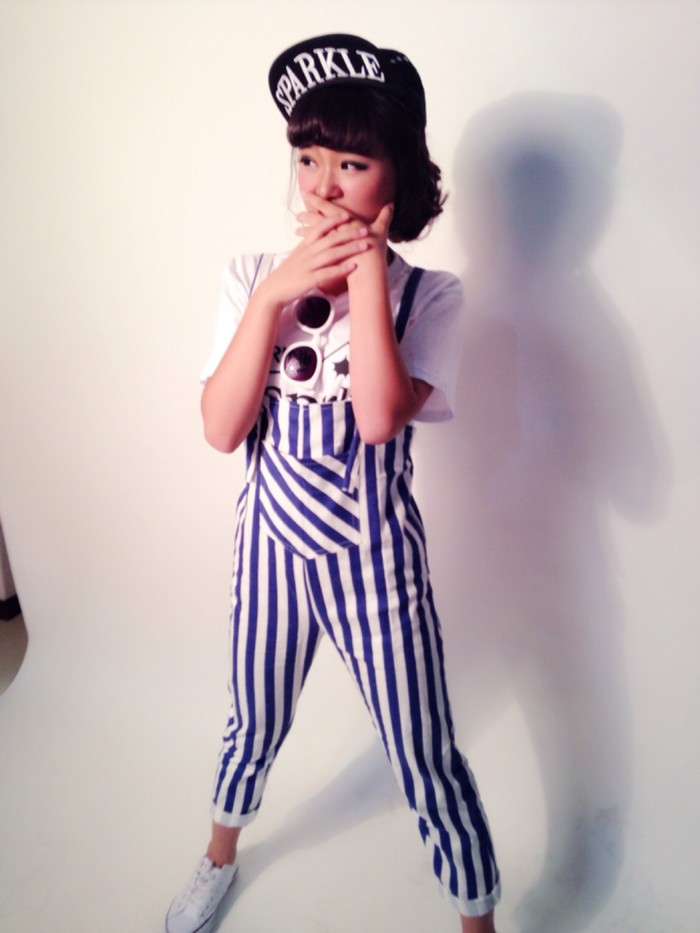face: (292, 101, 392, 252)
